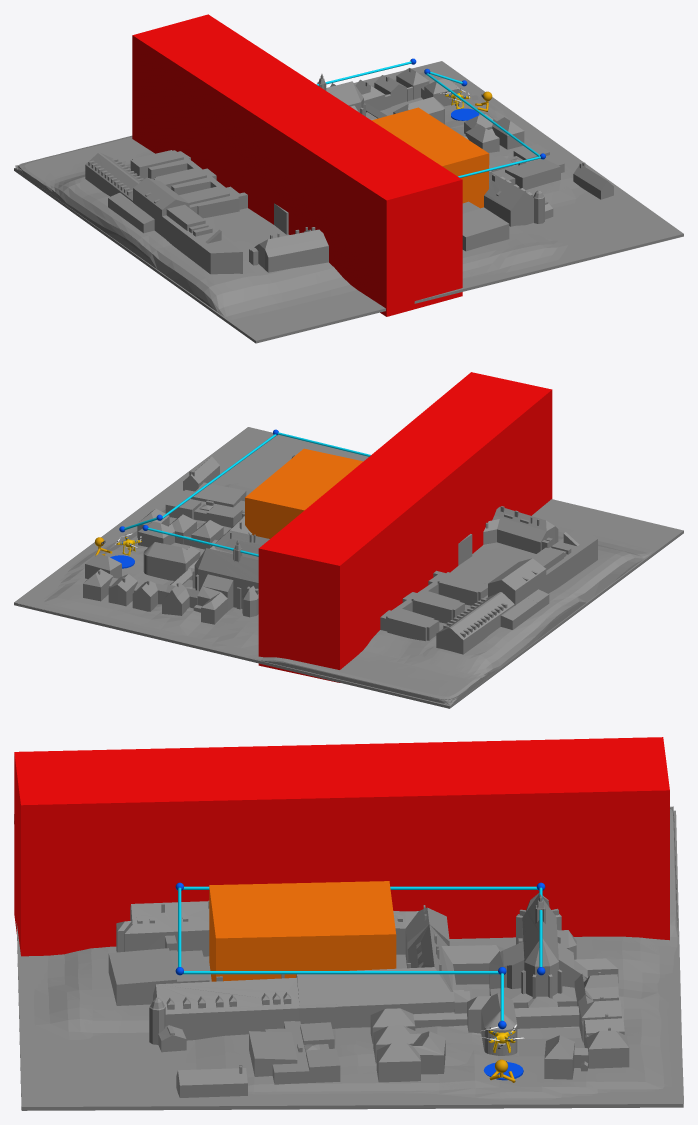
File: fit_ground_fixed.fbx
The picture shows the model from 3 angles, top to bottom: view 1: azimuth 30°, elevation 25°; view 2: azimuth 150°, elevation 25°; view 3: azimuth 270°, elevation 25°; orthographic projection. The views are drawn at different scales.
Visible parts, largest first — view 1: node_id3, Cube, Cube__1_; view 2: node_id3, Cube, Cube__1_; view 3: Cube, node_id3, Cube__1_, Cylinder__1_, Cylinder__3_.
Boxes of the visible parts, x1,y1,x2,y2 form: node_id3: (14, 61, 683, 343); Cube: (132, 14, 462, 316); Cube__1_: (372, 107, 489, 208); node_id3: (14, 427, 683, 708); Cube: (258, 372, 552, 682); Cube__1_: (245, 448, 363, 538); Cube: (14, 737, 669, 956); node_id3: (14, 806, 683, 1110); Cube__1_: (209, 881, 396, 981); Cylinder__1_: (183, 971, 498, 974); Cylinder__3_: (183, 886, 537, 889).
Size of the model in its own units: 41.1 by 10.53 by 39.3.
